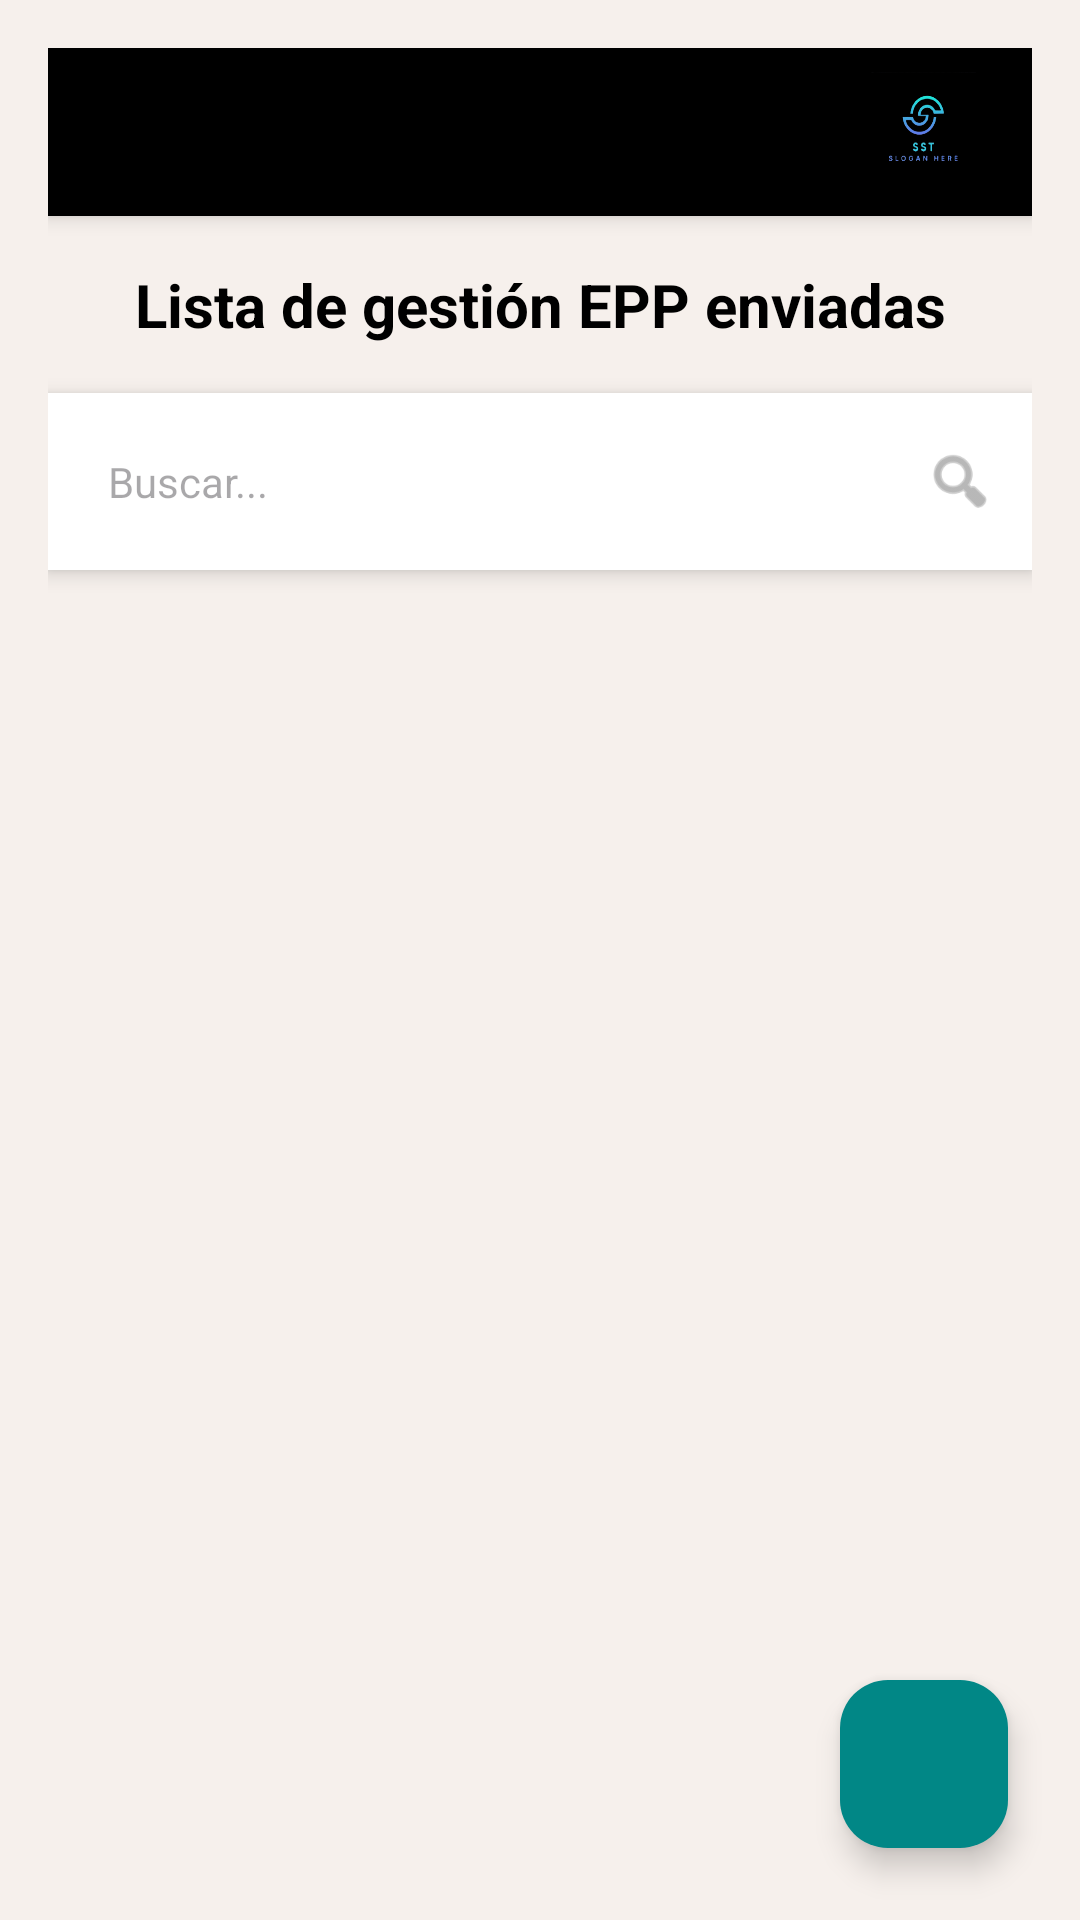

Icons on this 1080 × 1920 Android screen, each with the point to tap as [x,y]:
search: [960,481]
